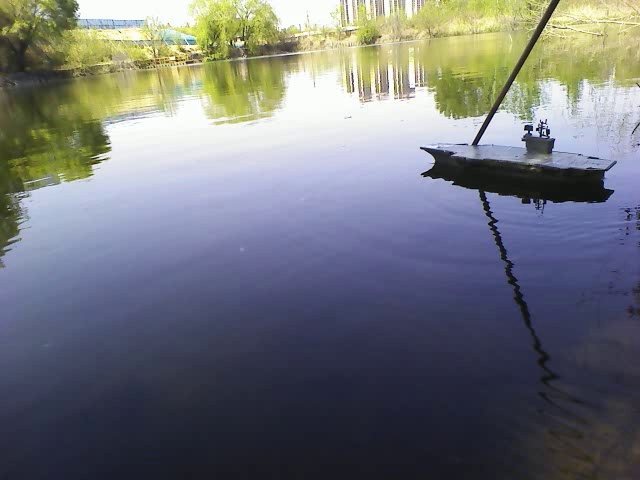aircraft_carrier: (419, 122, 618, 190)
